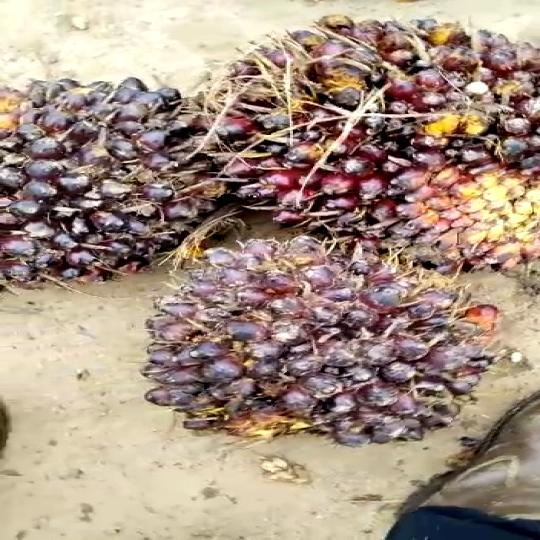kurang masak: (185, 16, 540, 272), (117, 239, 495, 451), (0, 76, 223, 284)
